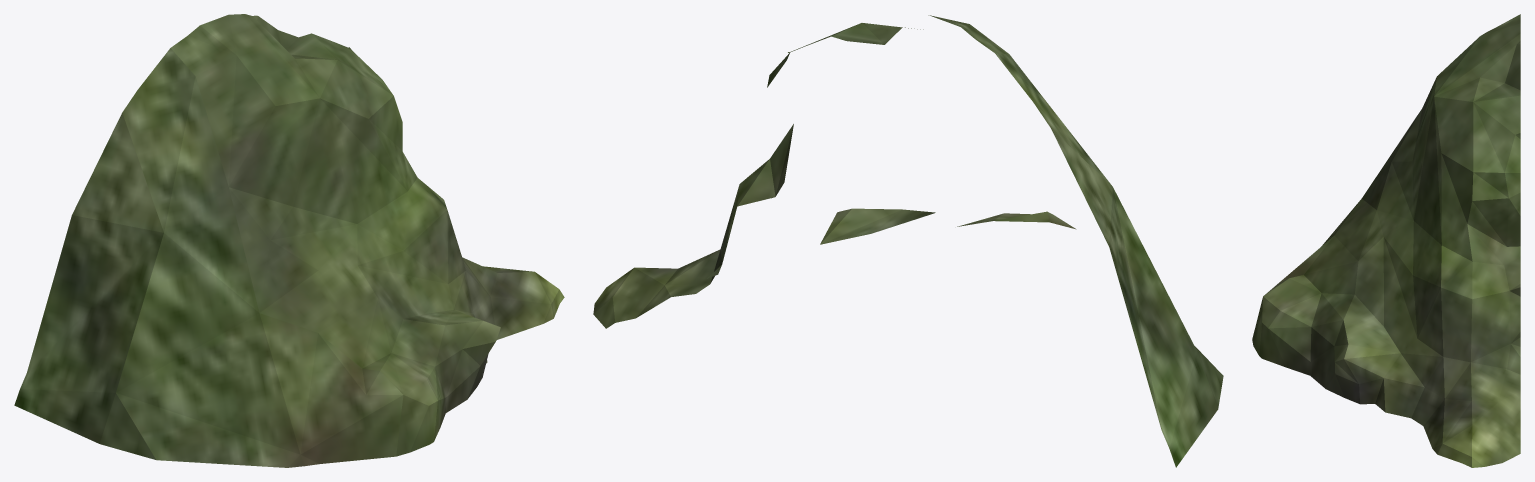
3 views of the same model, side by side, from view 1: azimuth 30°, elevation 25°; view 2: azimuth 150°, elevation 25°; view 3: azimuth 270°, elevation 25° (orthographic). The views are drawn at different scales.
Size of the model in its own units: 2.9 by 1.79 by 1.42.
1 material, 1 textured.
